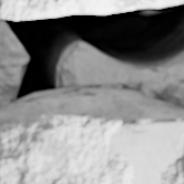brick: (0, 88, 183, 183), (0, 0, 180, 17)
crack: (0, 0, 183, 101)
